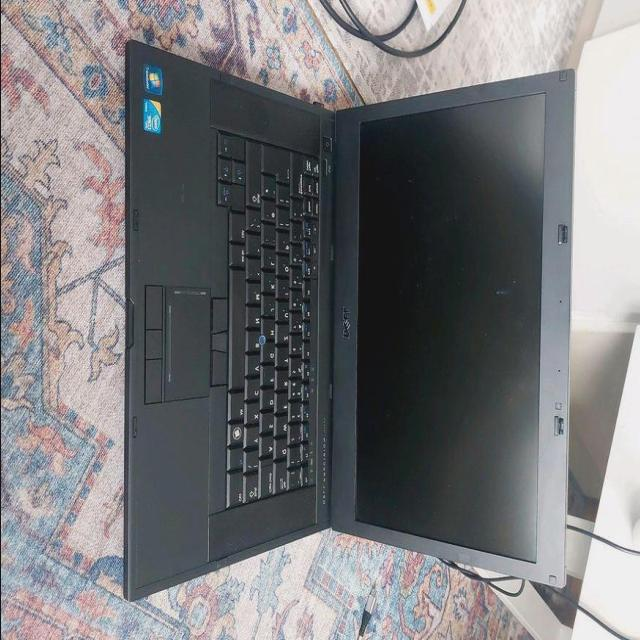keyboard: (208, 121, 322, 517)
